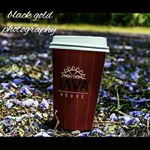cups: (45, 35, 110, 132)
